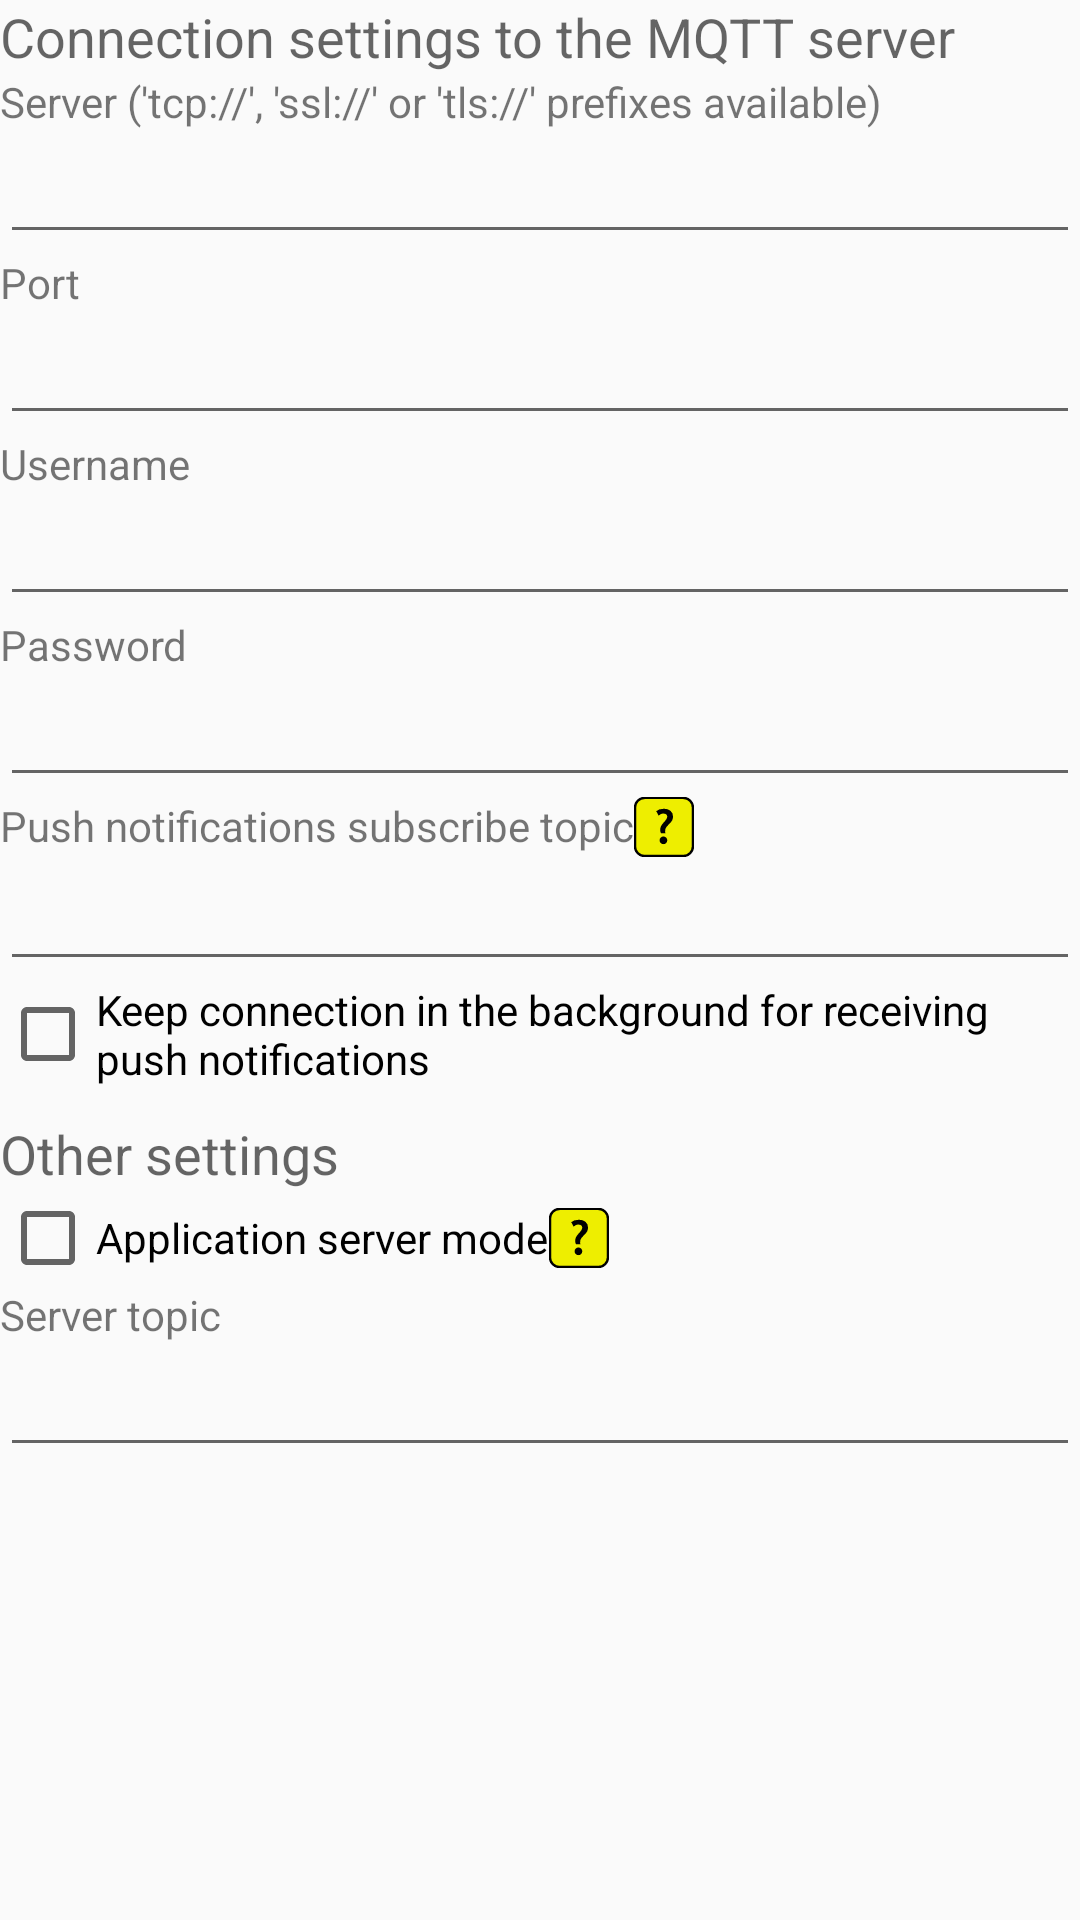

Point at icon controls on the screen. Image size 1080px x 1920px, points as (x=x, y=y).
help: (x=664, y=827), (x=579, y=1238)
